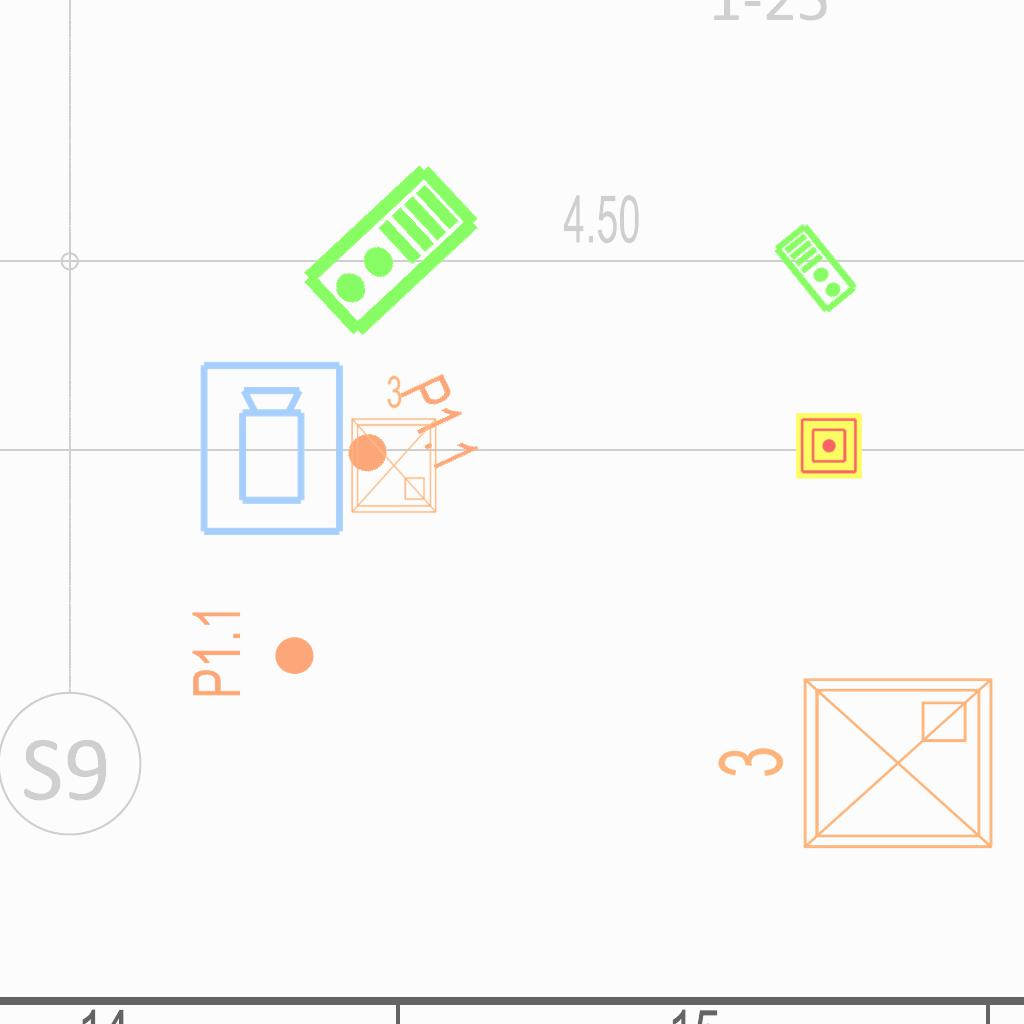Downlight_LED_Einbauleuchten_Flur: (328, 368, 485, 508), (189, 606, 317, 699)
Einbaudownlights_LED_Konferenzraeume: (707, 663, 1007, 871), (340, 370, 444, 520)
Gegensprechanlage_mit_Video: (294, 157, 489, 347), (770, 219, 863, 317)
KFO_Kamera_mit_Festobjektiv: (196, 358, 350, 540)
NAM-Nichtautomatischer_Melder: (796, 413, 862, 479)
